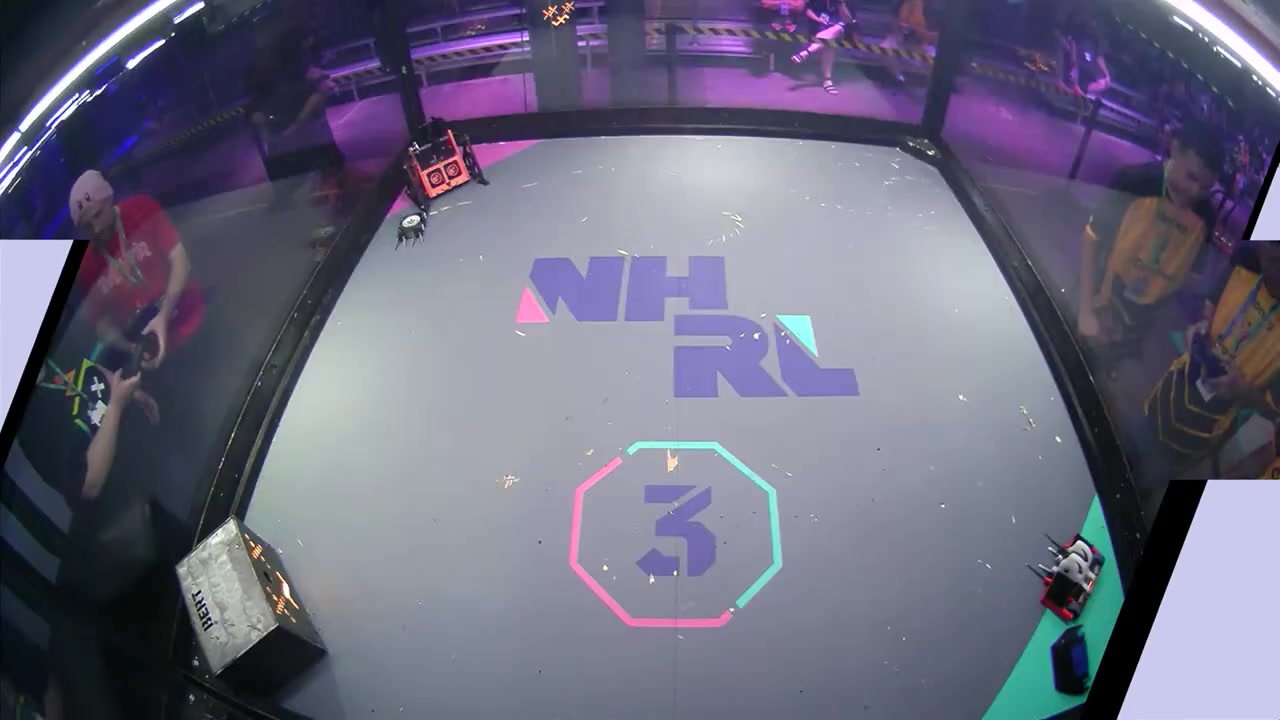combatbot: (1024, 530, 1104, 622), (399, 128, 491, 202)
minibot: (173, 518, 328, 691), (1049, 625, 1091, 696), (394, 208, 431, 249)
